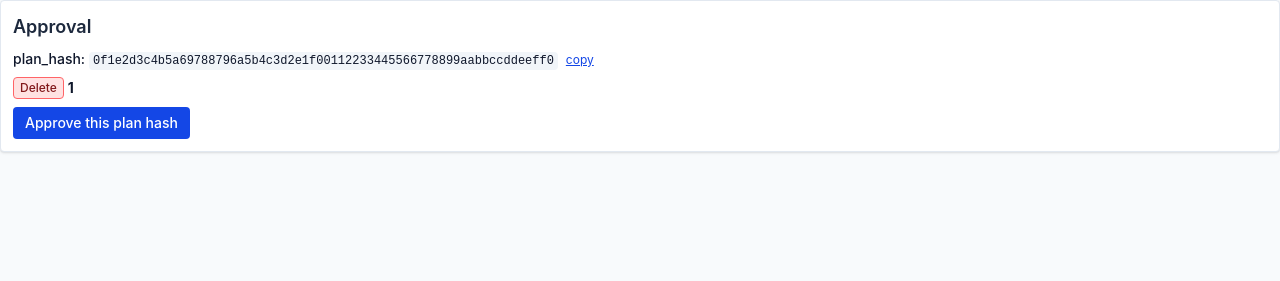
ApprovePanel › does not offer Re-plan for other errors
Click the button "Approve this plan hash" at (101, 123), box [13,107,190,139]
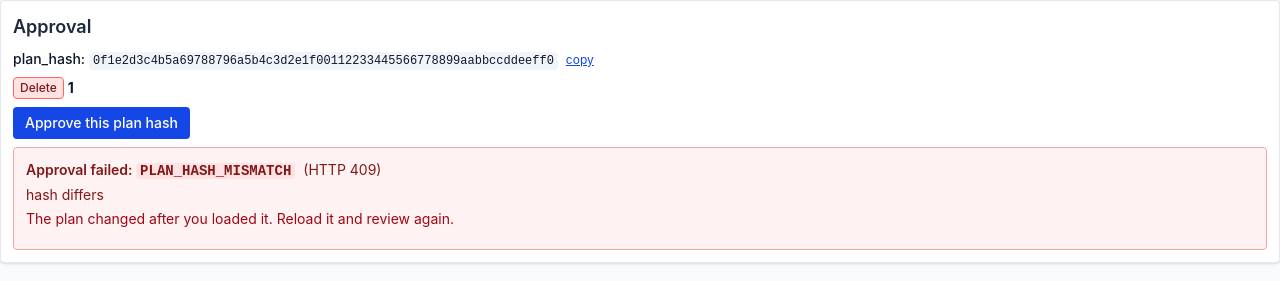
Expected: the message shows "PLAN_HASH_MISMATCH", [140,163,291,179]
